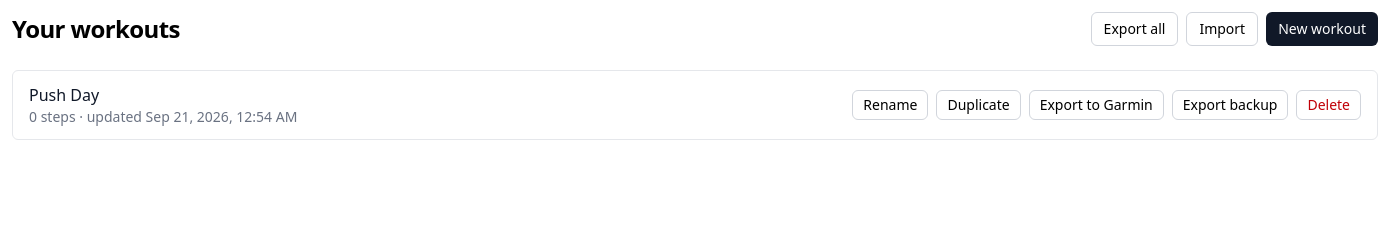
Test case: WorkoutLibrary › duplicates a workout from the list
The width and height of the screenshot is (1390, 235).
Click the button "Duplicate": (978, 105) [936,90,1021,120]
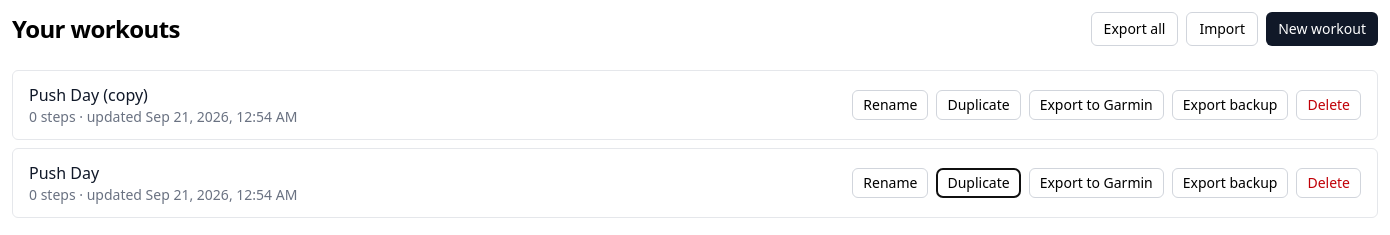
expect the button "Push Day (copy)" is shown: met, box [29,83,148,107]
